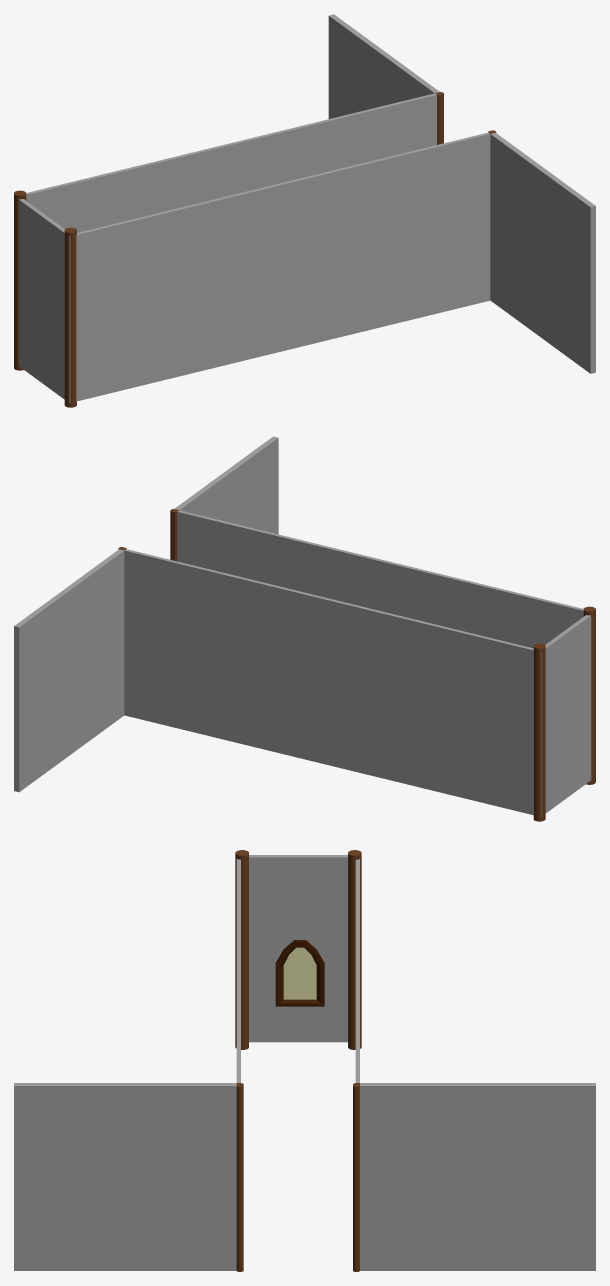
File: hallway.fbx
3 views of the same model, one above another, from view 1: azimuth 30°, elevation 25°; view 2: azimuth 150°, elevation 25°; view 3: azimuth 270°, elevation 25° (orthographic). The views are drawn at different scales.
Visible parts, largest first — view 1: pCube15; view 2: pCube15; view 3: pCube15.
Part boxes in pixels (x1,y1,x2,y2): pCube15: (14,14,595,407); pCube15: (14,436,595,821); pCube15: (14,850,595,1271).
Bounding box in the file's own units: 80.47 × 31.32 × 85.05.
